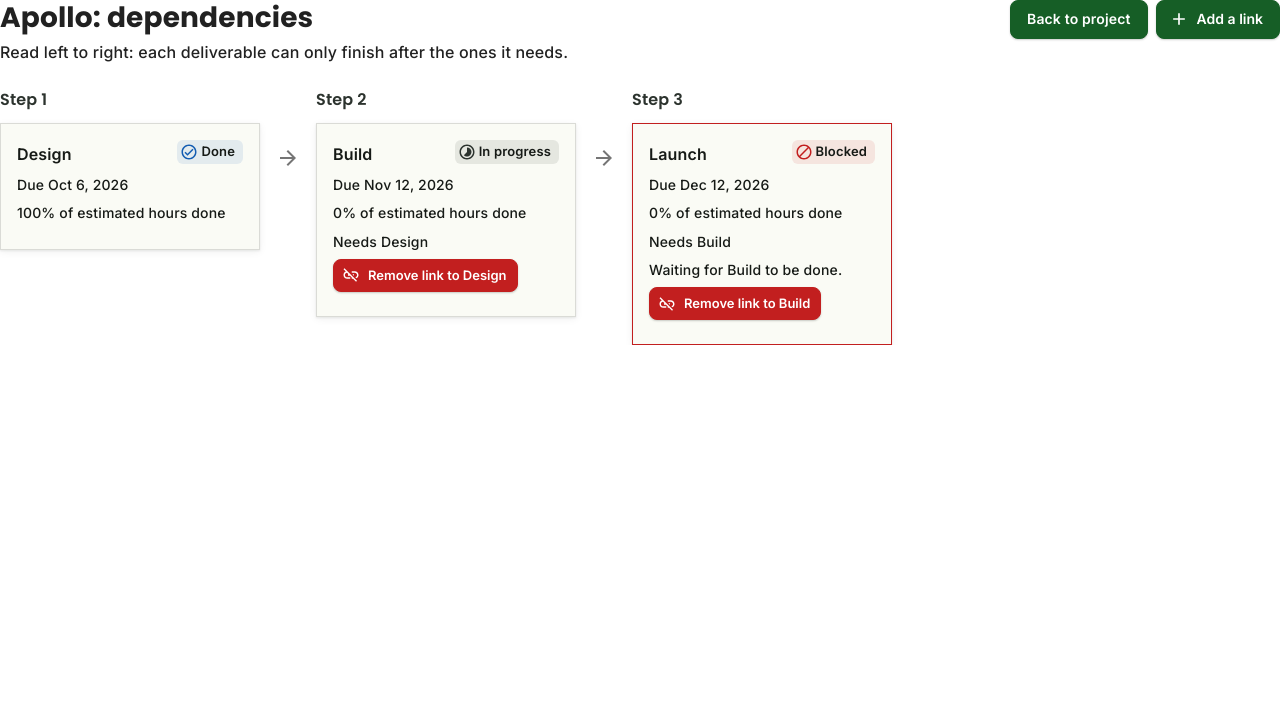
Scenario: DependencyPage › adds a link, and shows the server's refusal when it would make a loop
The width and height of the screenshot is (1280, 720).
Expected: the element "Step 1" is shown, [0,90,260,250]
Click the button "Add a link".
click(1218, 19)  # box [1156,0,1279,38]
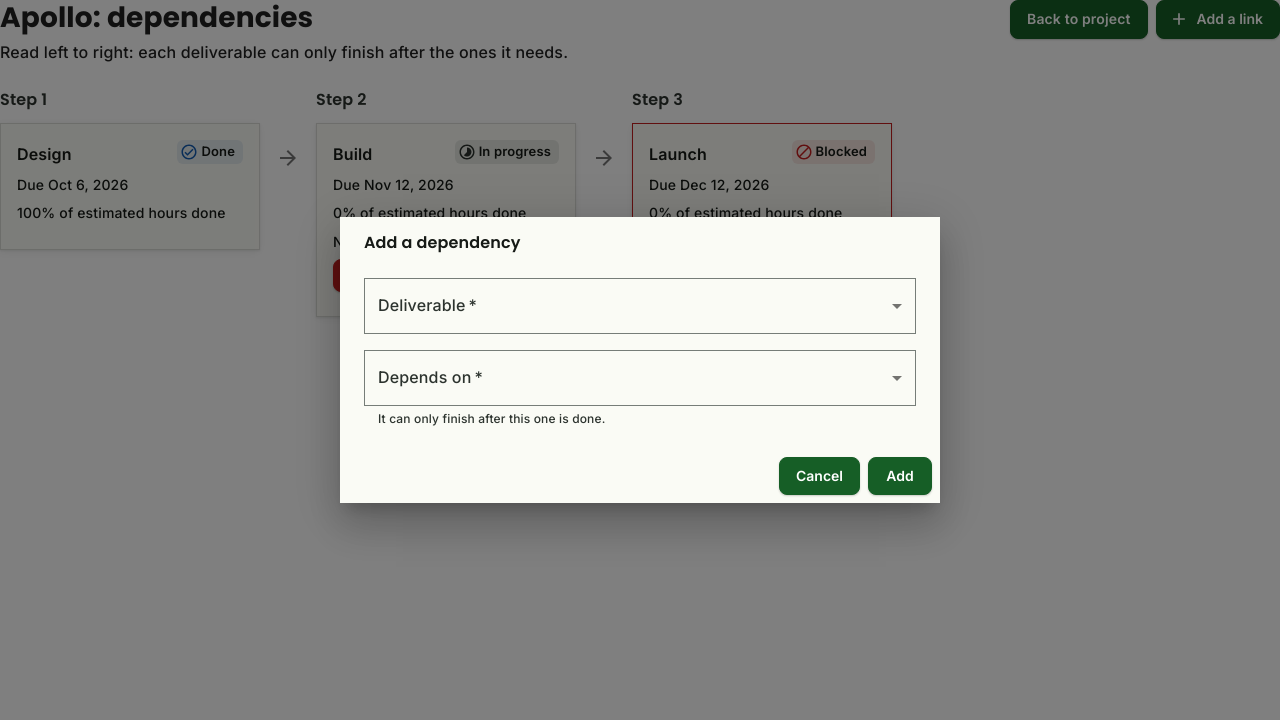
Click the 1st dropdown named "deliverable".
click(640, 306)  # box [364,278,916,334]
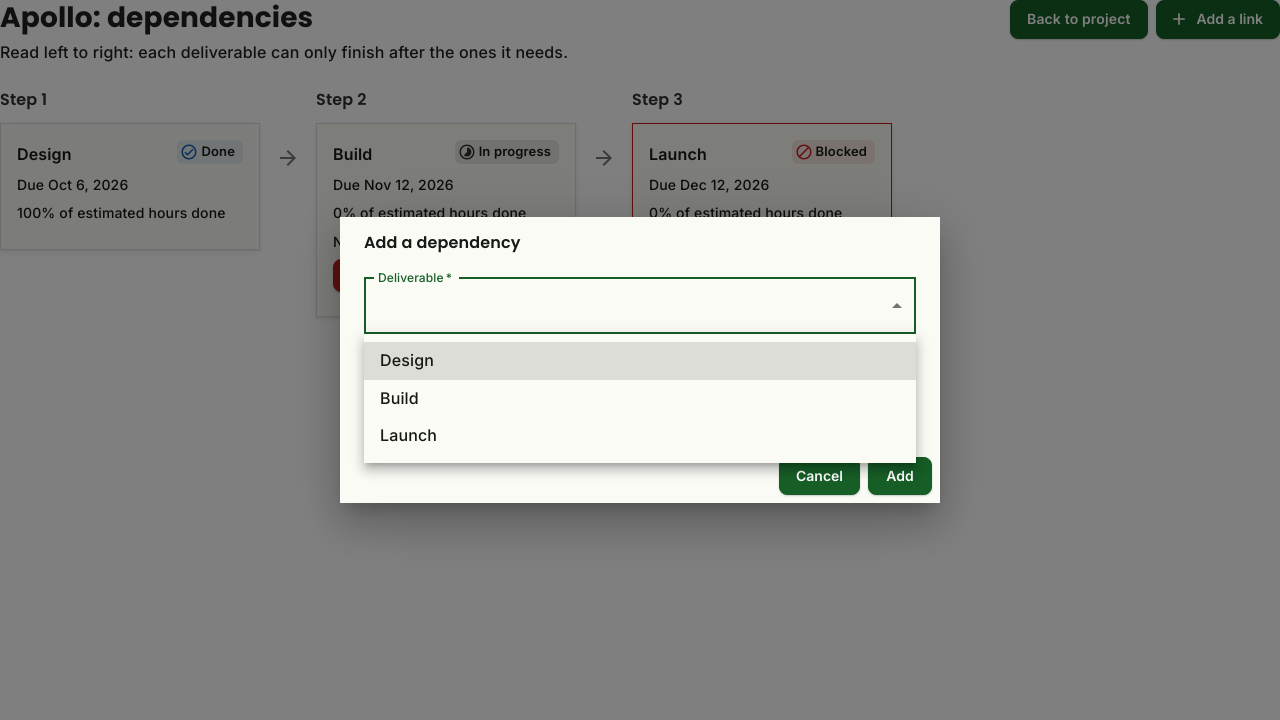
Click the option "Design".
click(407, 360)  # box [364,342,916,380]
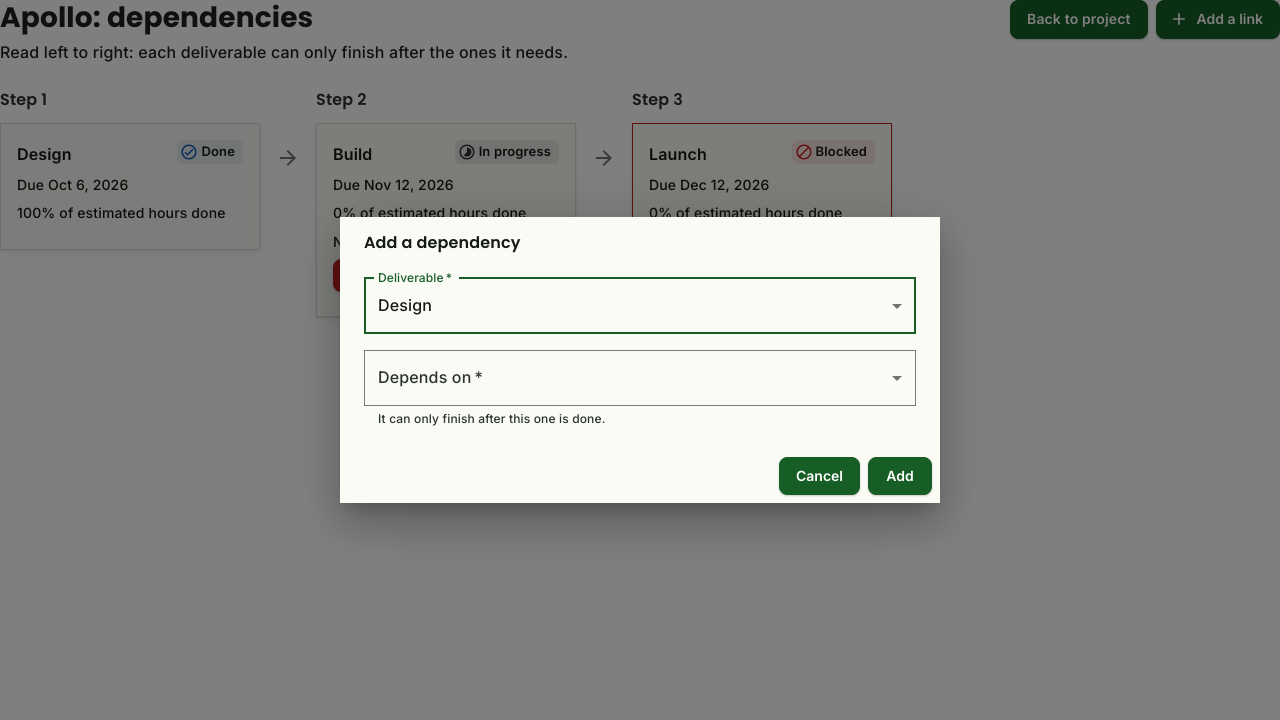
Click the dropdown named "depends on".
click(640, 378)  # box [364,350,916,406]
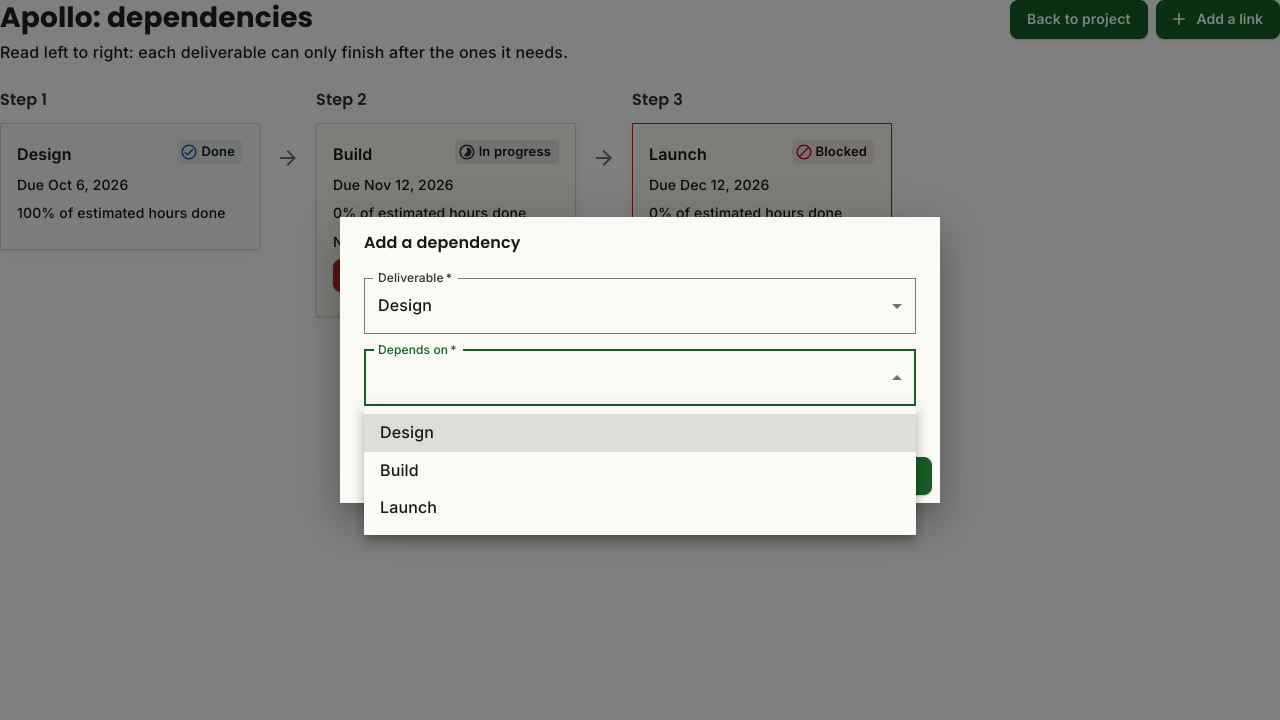
Click the option "Launch".
click(409, 507)  # box [380,497,437,517]
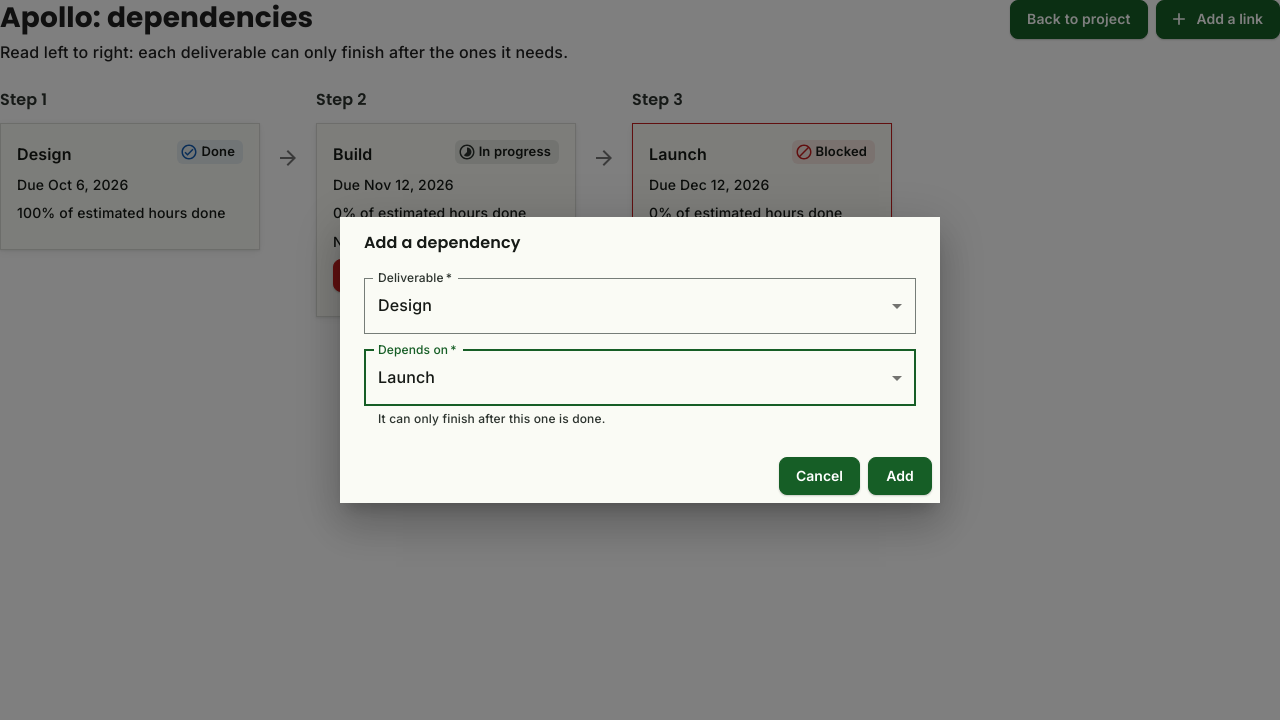
Click the button "Add".
click(900, 476)  # box [868,457,932,495]
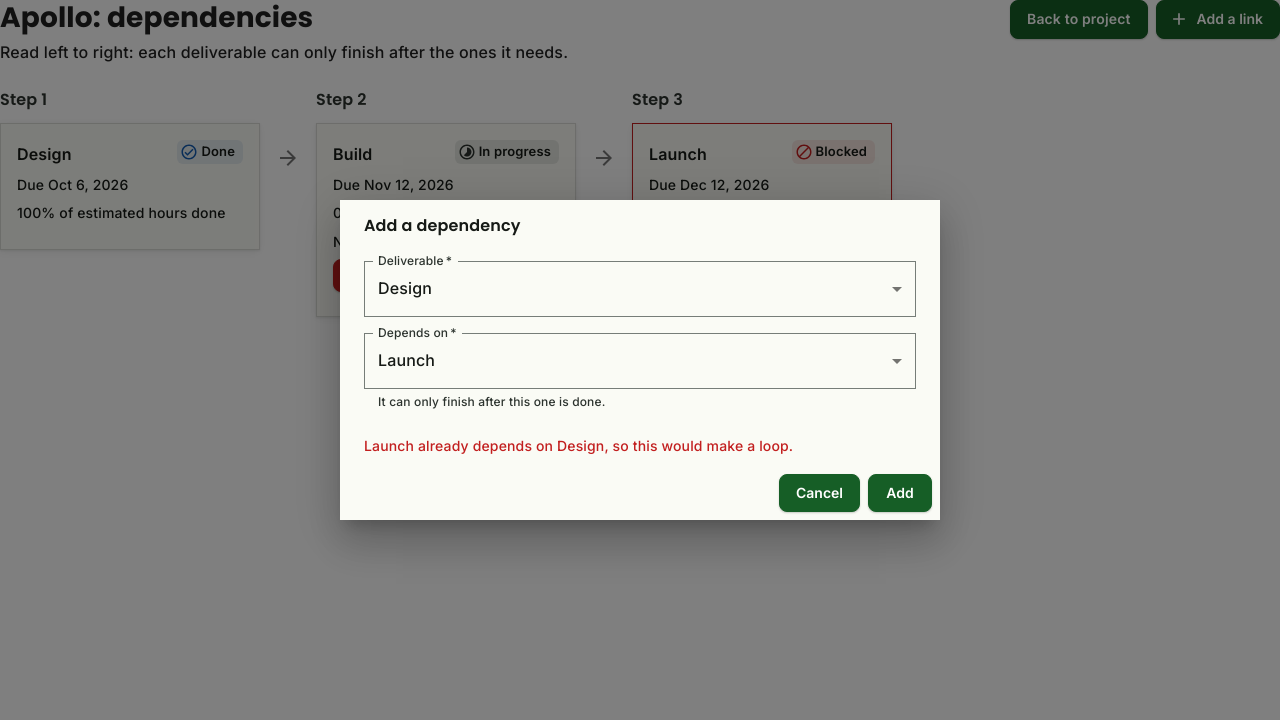
Result: the text "Launch already depends on Design, so this would make a loop." is shown at [364,438,793,454]
